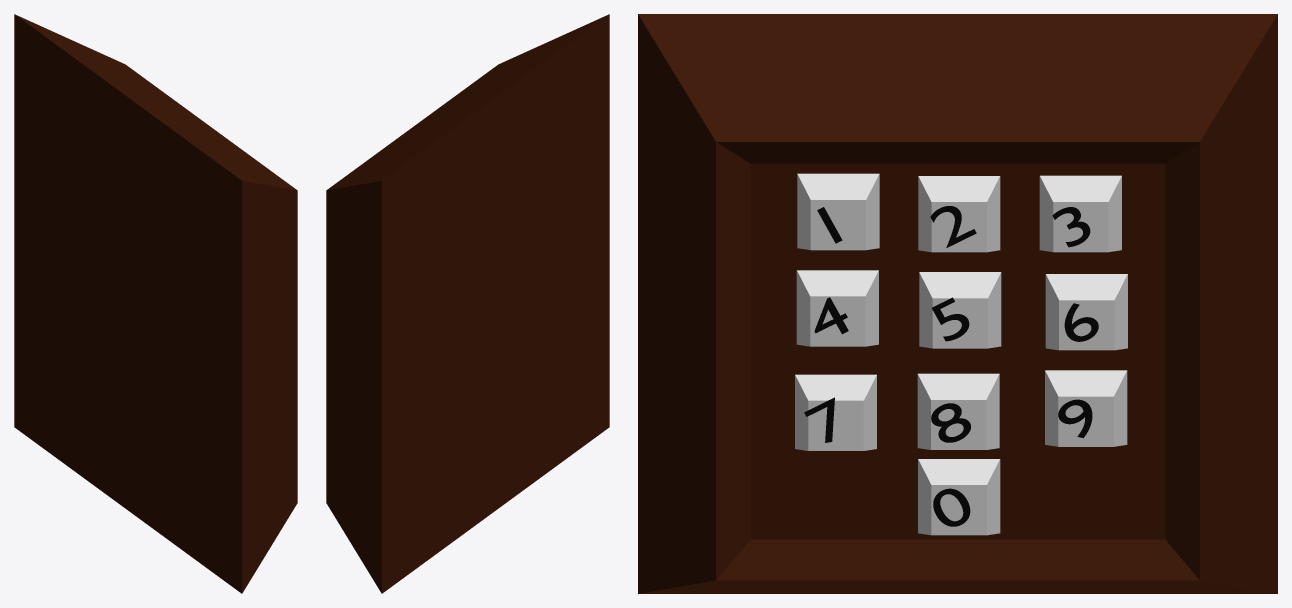
The model's file is numpad.glb.
The picture shows the model from 3 angles, left to right: view 1: azimuth 30°, elevation 25°; view 2: azimuth 150°, elevation 25°; view 3: azimuth 270°, elevation 25°; orthographic projection. The views are drawn at different scales.
Visible parts, largest first — view 1: Frame; view 2: Frame; view 3: Frame, Numpad1, Numpad3, Numpad7, Numpad2, Numpad4, Numpad5, Numpad9, Numpad6, Numpad0, Numpad8, Num8.
Boxes of the visible parts, x1,y1,x2,y2 form: Frame: (14,14,297,593); Frame: (326,14,609,593); Frame: (638,14,1277,593); Numpad1: (797,173,879,250); Numpad3: (1039,175,1121,252); Numpad7: (795,374,876,450); Numpad2: (918,176,1000,252); Numpad4: (796,270,878,346); Numpad5: (919,272,1001,348); Numpad9: (1045,370,1127,446); Numpad6: (1045,274,1127,350); Numpad0: (918,459,1000,535); Numpad8: (917,373,999,449); Num8: (931,403,970,442).
Size of the model in its own units: 0.4991 by 2 by 2.
